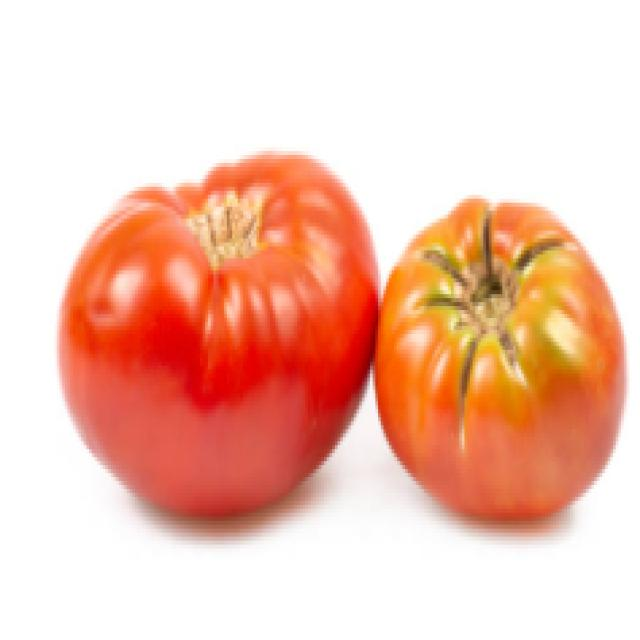Tomato: (49, 133, 392, 539), (359, 190, 628, 536)
